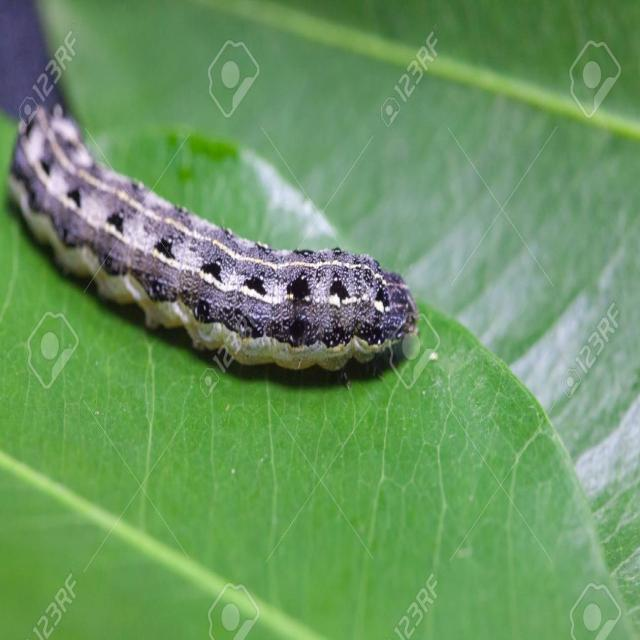worm: (9, 102, 421, 389)
